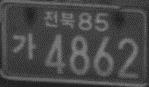2: (116, 36, 140, 80)
4: (43, 33, 66, 74)
5: (93, 12, 109, 32)
6: (93, 35, 115, 78)
8: (69, 34, 91, 75), (78, 11, 92, 32)
가: (11, 31, 37, 61)
전북_O: (43, 9, 75, 30)
